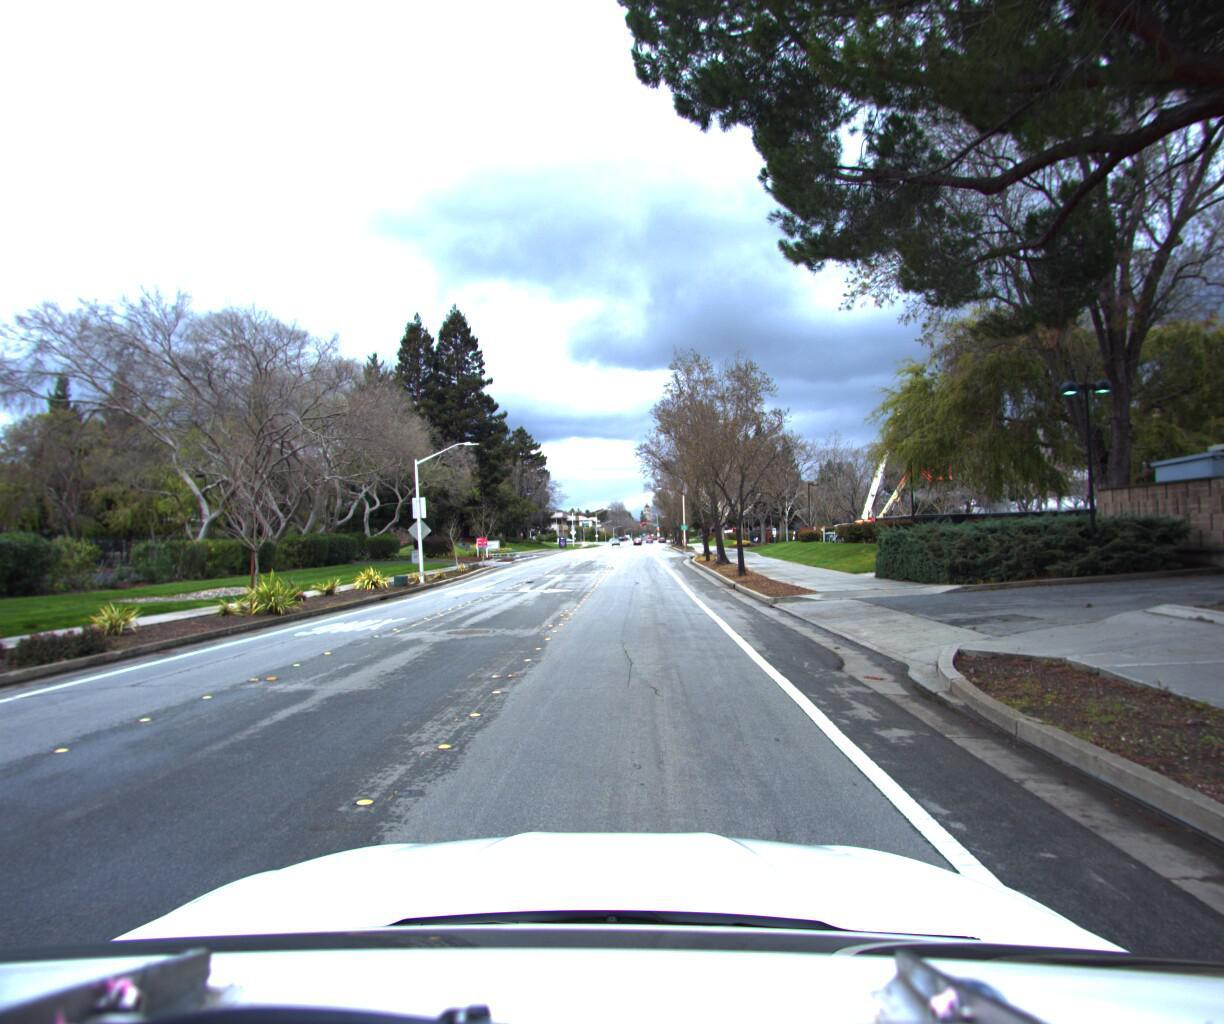other_vehicle: (820, 414, 909, 540), (832, 454, 953, 539)
